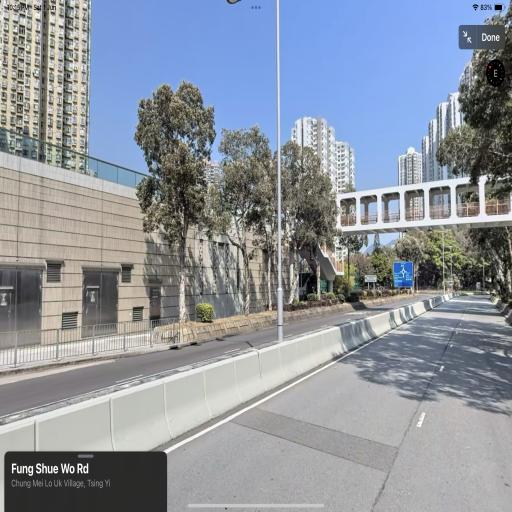Roads: (35, 273, 506, 488)
Trees: (109, 66, 374, 295)
